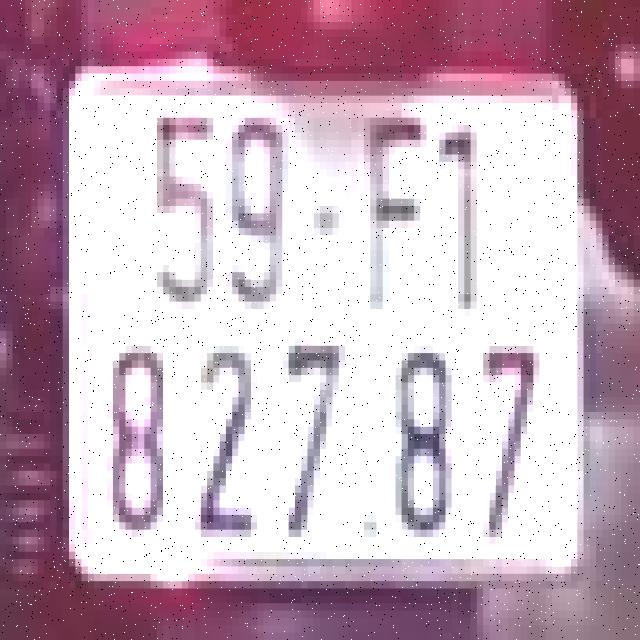1: (439, 121, 496, 320)
2: (182, 335, 263, 548)
5: (135, 92, 223, 320)
7: (468, 331, 556, 552), (273, 320, 348, 555)
8: (100, 327, 176, 541), (383, 338, 458, 544)
9: (213, 103, 295, 316)
F: (351, 107, 427, 320)
